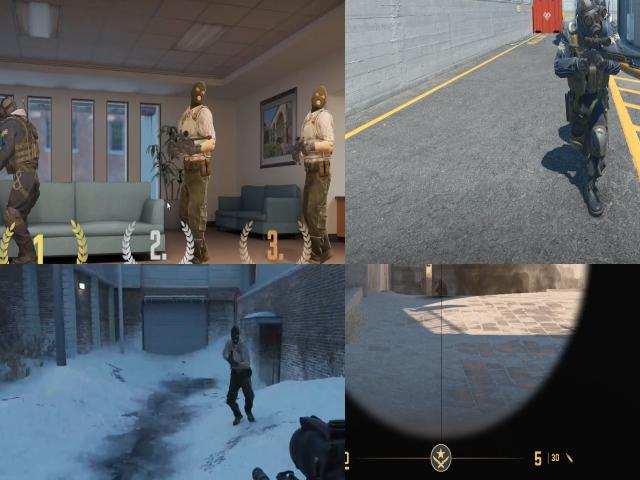CT: (566, 0, 600, 202), (0, 89, 43, 172), (594, 0, 615, 159), (437, 280, 449, 298)
CT-Head: (0, 92, 24, 127), (574, 0, 596, 36), (594, 0, 607, 22), (439, 279, 442, 284)
T: (176, 94, 215, 179), (294, 104, 340, 175), (227, 317, 253, 386)
T-Head: (310, 77, 332, 125), (186, 78, 210, 113), (228, 323, 242, 346)
